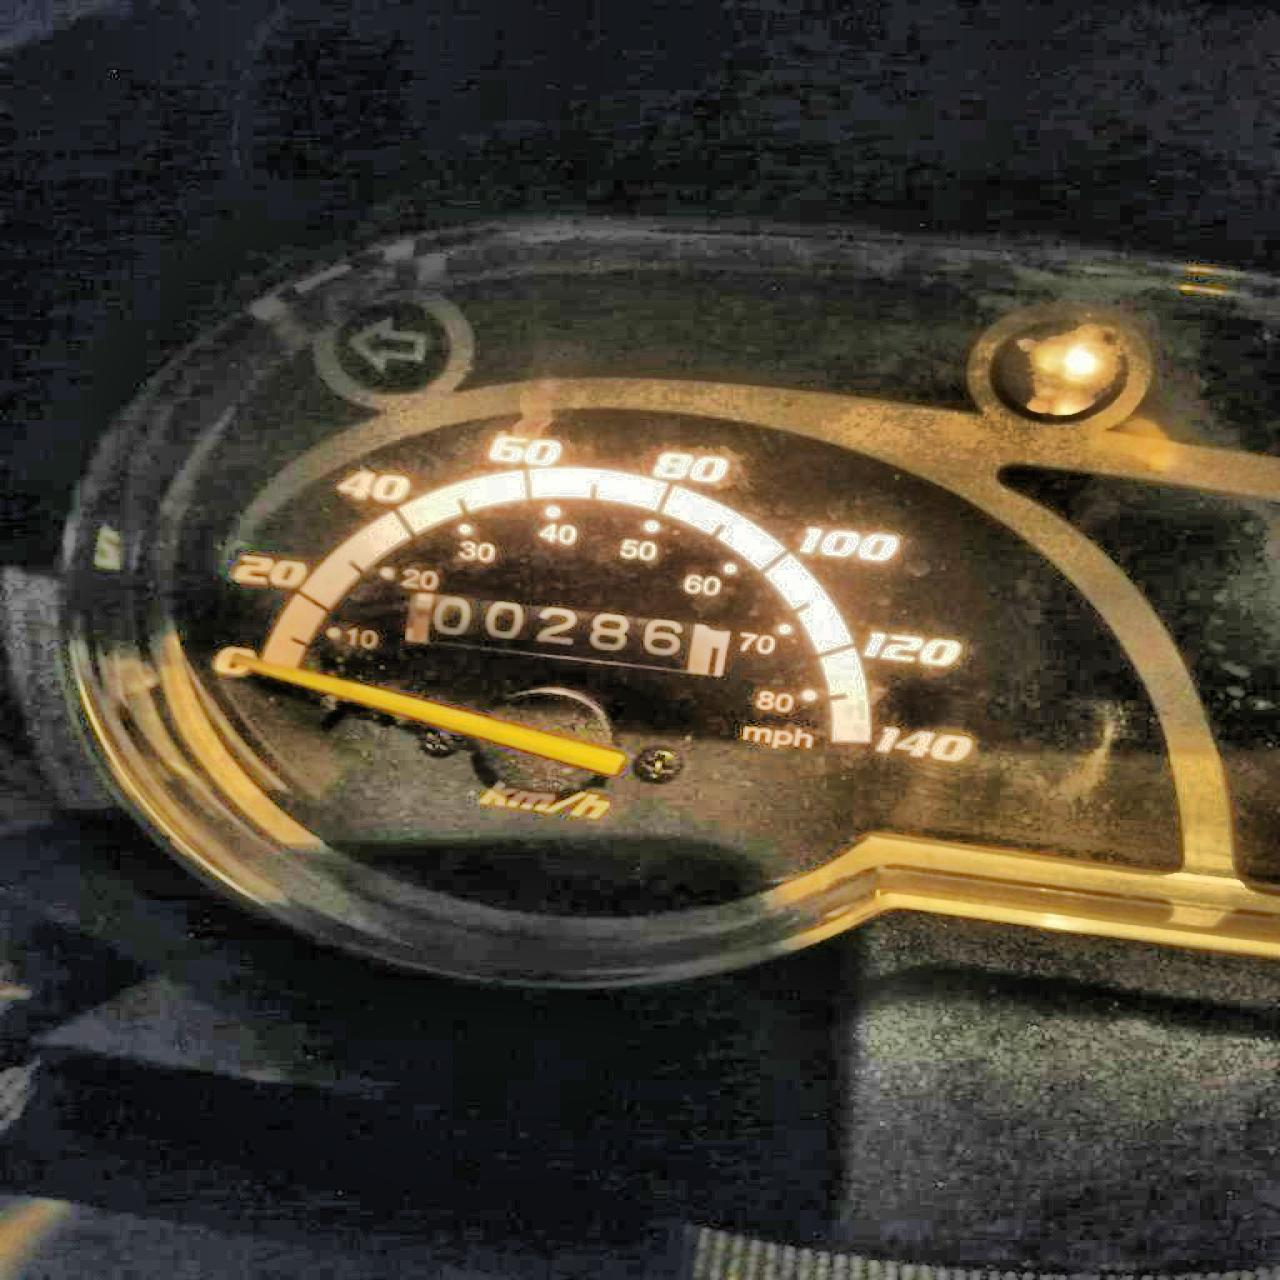0: (483, 599, 522, 638), (431, 595, 470, 634)
1: (700, 644, 723, 675)
2: (531, 605, 577, 645)
6: (640, 618, 683, 655)
8: (587, 613, 631, 652)
odometer: (400, 588, 731, 678)
